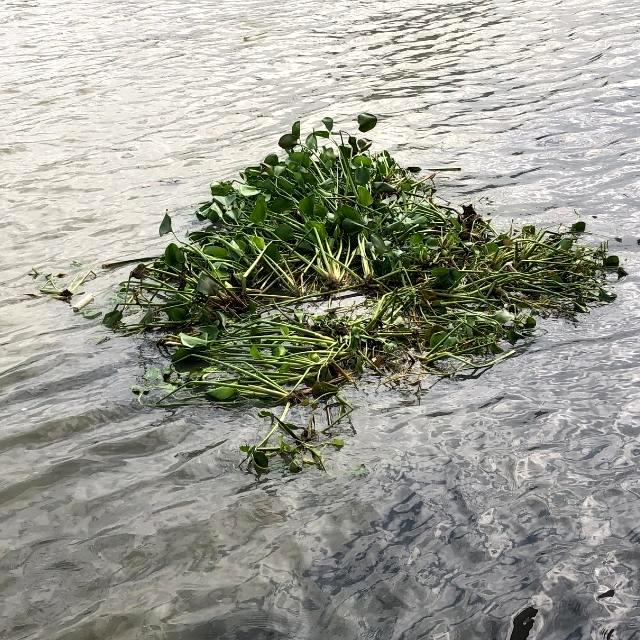water-hyacinth: (23, 110, 632, 473)
